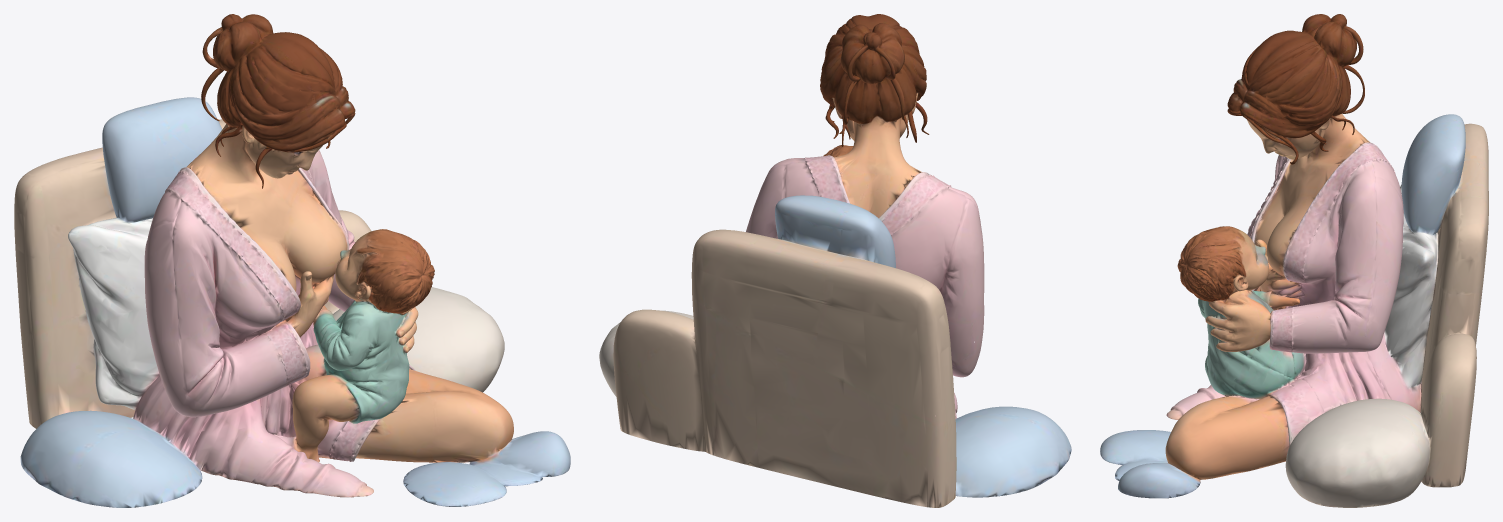
Rendered from pega-cavalinho.glb.
The picture shows the model from 3 angles, left to right: view 1: azimuth 30°, elevation 25°; view 2: azimuth 150°, elevation 25°; view 3: azimuth 270°, elevation 25°; orthographic projection. The views are drawn at different scales.
Parts seen in each view (by area): view 1: tripo_node_ed0cbd9c-55d4-467b-8c9f-3478d2143b60; view 2: tripo_node_ed0cbd9c-55d4-467b-8c9f-3478d2143b60; view 3: tripo_node_ed0cbd9c-55d4-467b-8c9f-3478d2143b60.
Boxes of the visible parts, <box> form: tripo_node_ed0cbd9c-55d4-467b-8c9f-3478d2143b60: <box>14,14,570,507</box>; tripo_node_ed0cbd9c-55d4-467b-8c9f-3478d2143b60: <box>599,14,1071,507</box>; tripo_node_ed0cbd9c-55d4-467b-8c9f-3478d2143b60: <box>1100,14,1488,507</box>.
Bounding box in the file's own units: 0.9802 × 0.8554 × 0.7868.
1 material, 1 textured.
